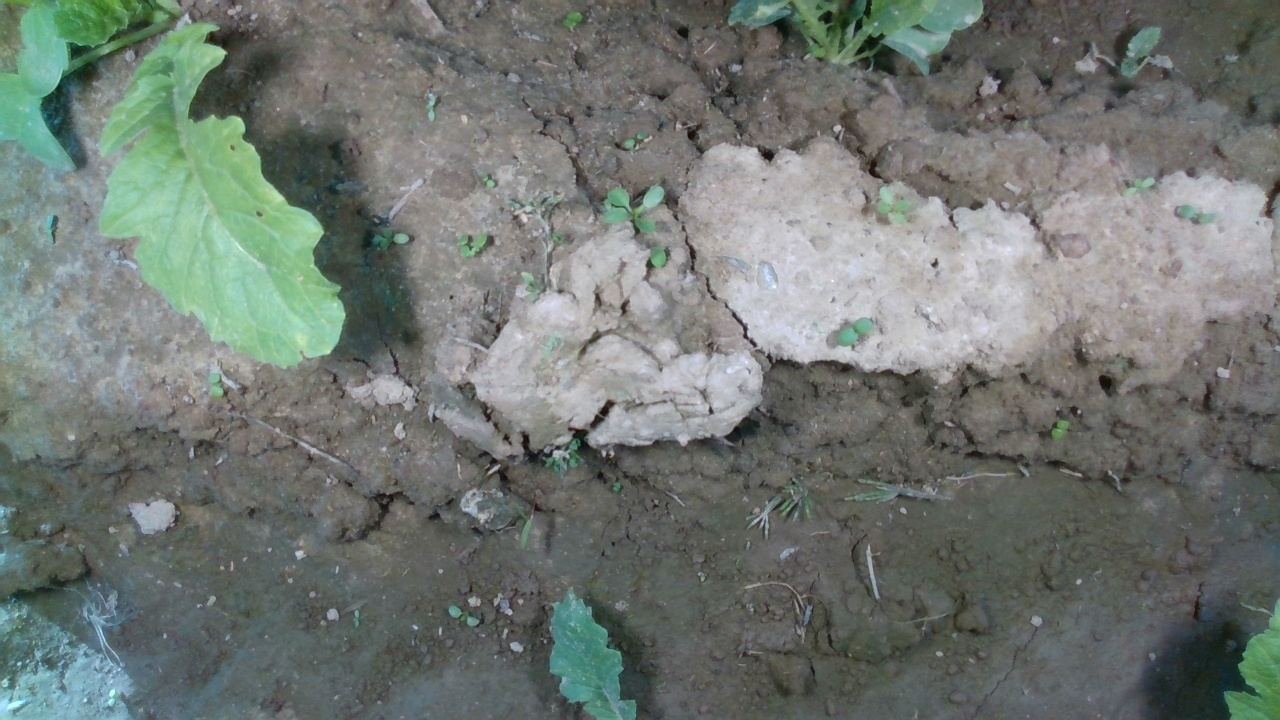weed: (873, 184, 911, 227), (368, 225, 412, 253), (837, 314, 874, 347), (1175, 202, 1217, 227), (1122, 175, 1157, 199), (447, 605, 481, 629), (619, 129, 649, 150), (207, 369, 226, 400), (1049, 418, 1070, 440), (424, 91, 437, 124), (481, 174, 496, 189), (350, 608, 360, 630)
